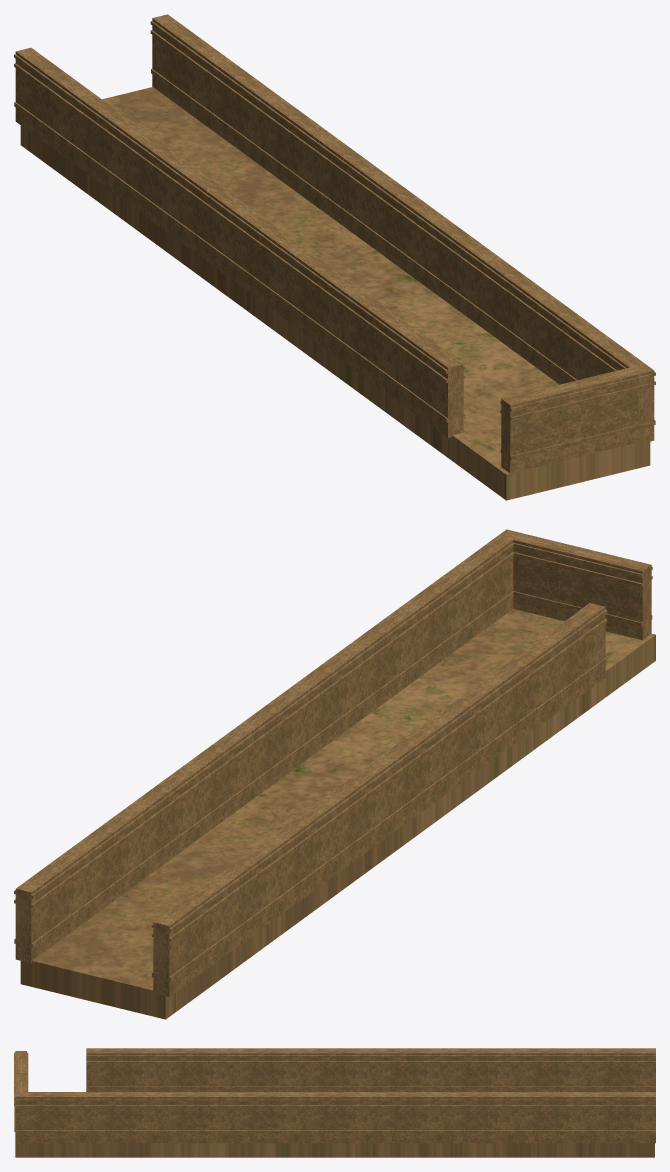
File: MDL_E_LVL_Temple_Tunnel_02.fbx
The picture shows the model from 3 angles, top to bottom: view 1: azimuth 30°, elevation 25°; view 2: azimuth 150°, elevation 25°; view 3: azimuth 270°, elevation 25°; orthographic projection. The views are drawn at different scales.
Visible parts, largest first — view 1: Cube.008, Cube.006, Plane.052, Cube.038; view 2: Cube.008, Plane.052, Cube.006, Cube.038; view 3: Cube.008, Cube.006, Plane.052, Cube.038.
Boxes of the visible parts, x1=… form: Cube.008: x1=150, y1=14, x2=655, y2=442; Cube.006: x1=14, y1=47, x2=465, y2=437; Plane.052: x1=20, y1=87, x2=650, y2=500; Cube.038: x1=500, y1=365, x2=651, y2=473; Cube.008: x1=14, y1=529, x2=521, y2=963; Plane.052: x1=20, y1=609, x2=655, y2=1019; Cube.006: x1=151, y1=603, x2=607, y2=996; Cube.038: x1=501, y1=531, x2=652, y2=640; Cube.008: x1=15, y1=1092, x2=655, y2=1143; Cube.006: x1=86, y1=1048, x2=655, y2=1091; Plane.052: x1=15, y1=1143, x2=654, y2=1157; Cube.038: x1=14, y1=1051, x2=28, y2=1131.
Size of the model in its own units: 631 by 365 by 3425.
